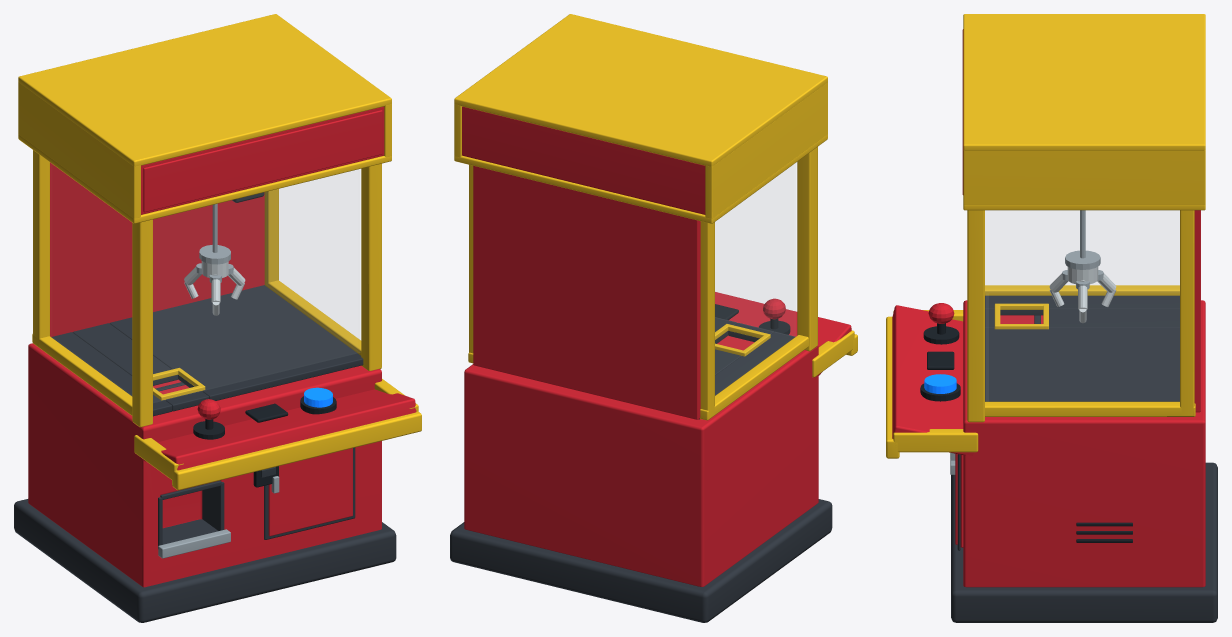
File: claw-machine-v1.glb
3 renders of one model, left to right at view 1: azimuth 30°, elevation 25°; view 2: azimuth 150°, elevation 25°; view 3: azimuth 270°, elevation 25°, orthographic. The views are drawn at different scales.
Parts seen in each view (by area): view 1: Lower cabinet, Marquee yellow top, Solid red rear wall, Playfield floor right, Plinth, Blank marquee face, Control deck, Marquee yellow left, Door inset, Control deck yellow front, Yellow front upright, Yellow front upright.001 (+13 smaller); view 2: Lower cabinet, Solid red rear wall, Marquee yellow top, Plinth, Marquee red body, Marquee yellow left, Yellow front upright, Yellow rear upright, Marquee yellow bottom, Control deck, Yellow side sill, Playfield floor left (+2 smaller); view 3: Lower cabinet, Marquee yellow top, Playfield floor right, Marquee yellow right, Plinth, Control deck, Yellow front upright.001, Yellow side sill.001, Yellow rear upright.001, Playfield floor left, Playfield floor rear, Control deck yellow end.001 (+8 smaller).
Boxes of the visible parts, left/top/right/bottom form: Lower cabinet: left=28, top=343, right=381, bottom=587; Marquee yellow top: left=18, top=14, right=391, bottom=166; Solid red rear wall: left=50, top=162, right=264, bottom=336; Playfield floor right: left=109, top=285, right=363, bottom=400; Plinth: left=14, top=499, right=396, bottom=622; Blank marquee face: left=143, top=110, right=382, bottom=212; Control deck: left=141, top=389, right=416, bottom=470; Marquee yellow left: left=18, top=82, right=140, bottom=218; Door inset: left=268, top=448, right=352, bottom=536; Control deck yellow front: left=172, top=411, right=421, bottom=490; Yellow front upright: left=132, top=219, right=152, bottom=427; Yellow front upright.001: left=361, top=163, right=381, bottom=370; Lower cabinet: left=464, top=335, right=818, bottom=586; Solid red rear wall: left=473, top=166, right=700, bottom=419; Marquee yellow top: left=454, top=14, right=827, bottom=166; Plinth: left=450, top=499, right=832, bottom=622; Marquee red body: left=462, top=106, right=705, bottom=214; Marquee yellow left: left=705, top=82, right=827, bottom=218; Yellow front upright: left=797, top=147, right=817, bottom=351; Yellow rear upright: left=700, top=221, right=714, bottom=417; Marquee yellow bottom: left=454, top=134, right=827, bottom=223; Control deck: left=715, top=292, right=851, bottom=379; Yellow side sill: left=700, top=335, right=808, bottom=420; Playfield floor left: left=699, top=331, right=795, bottom=419; Lower cabinet: left=963, top=300, right=1205, bottom=587; Marquee yellow top: left=963, top=14, right=1205, bottom=150; Playfield floor right: left=985, top=328, right=1179, bottom=401; Marquee yellow right: left=963, top=150, right=1205, bottom=204; Plinth: left=951, top=462, right=1217, bottom=622; Control deck: left=892, top=305, right=973, bottom=455; Yellow front upright.001: left=967, top=210, right=984, bottom=422; Yellow side sill.001: left=985, top=401, right=1195, bottom=416; Yellow rear upright.001: left=1180, top=210, right=1194, bottom=415; Playfield floor left: left=985, top=295, right=1179, bottom=315; Playfield floor rear: left=1049, top=309, right=1179, bottom=327; Control deck yellow end.001: left=893, top=429, right=978, bottom=452.
Bounding box in the file's own units: 7 × 11.91 × 7.46.
